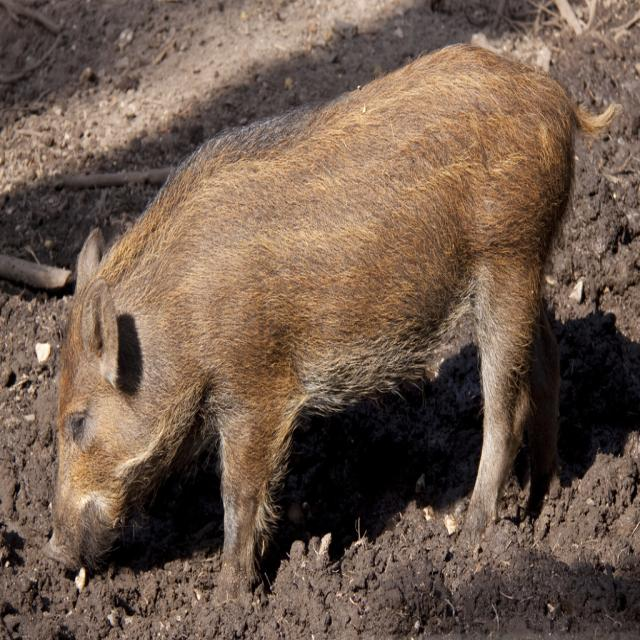Pig: (42, 42, 624, 601)
